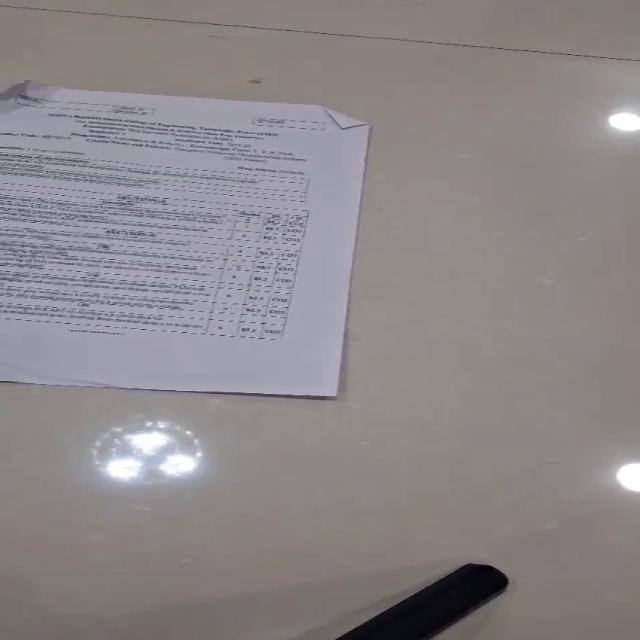paper: (0, 79, 372, 398)
